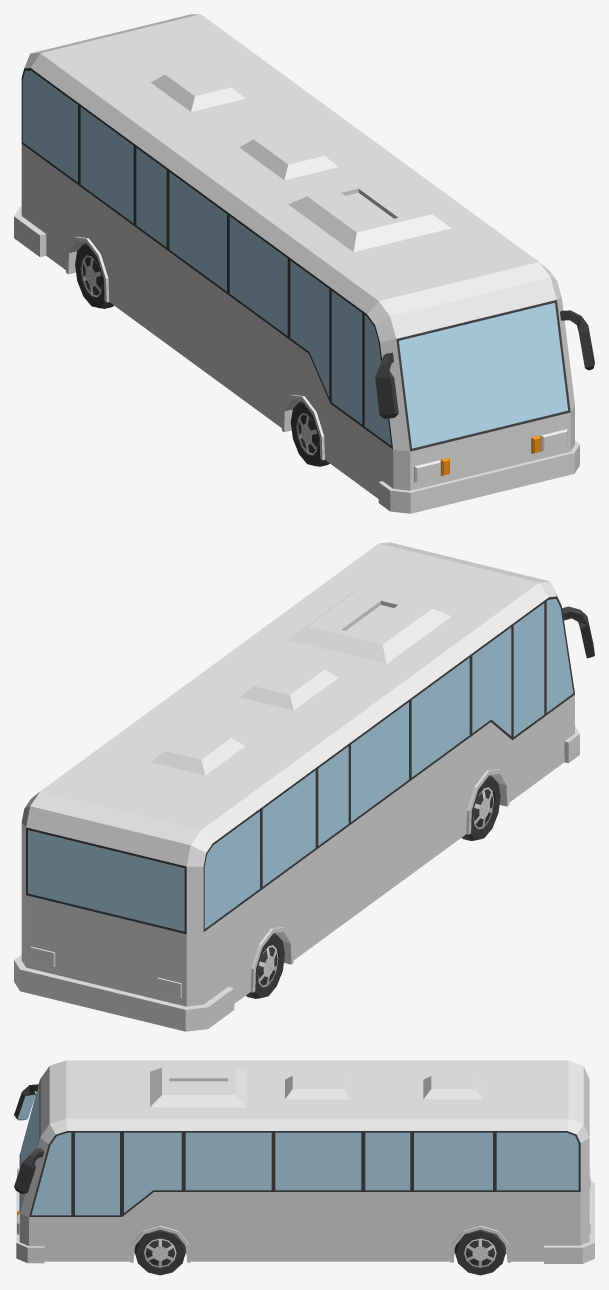
File: bus.glb
3 views of the same model, one above another, from view 1: azimuth 30°, elevation 25°; view 2: azimuth 150°, elevation 25°; view 3: azimuth 270°, elevation 25° (orthographic). The views are drawn at different scales.
Parts seen in each view (by area): view 1: Bus; view 2: Bus; view 3: Bus.
Part boxes in pixels (left/top/right/bottom): Bus: left=14, top=14, right=594, bottom=513; Bus: left=14, top=542, right=594, bottom=1031; Bus: left=14, top=1060, right=594, bottom=1275.
Bounding box in the file's own units: 50.06 × 48.81 × 157.
1 material, 1 textured.
